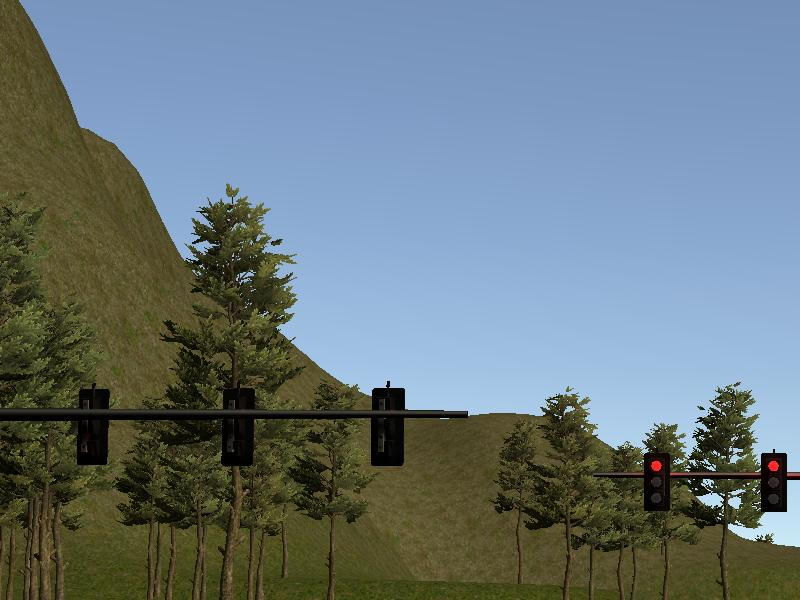Red: (643, 452, 669, 512), (761, 453, 785, 512)
